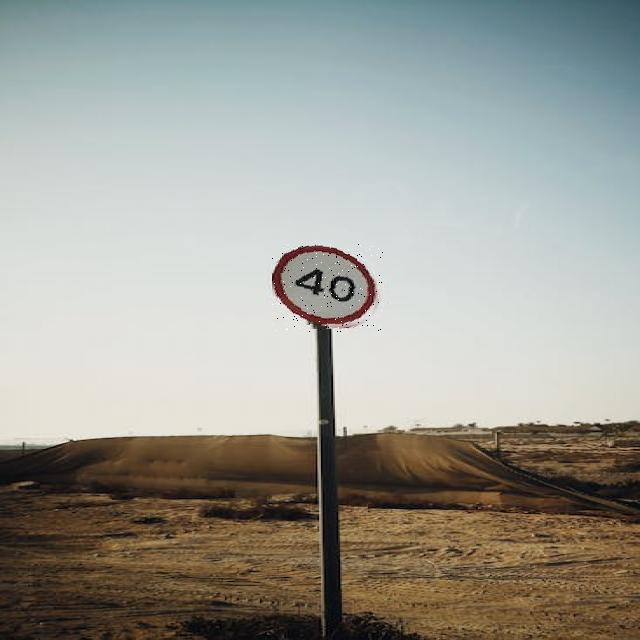speed limit 40: (272, 244, 383, 332)
